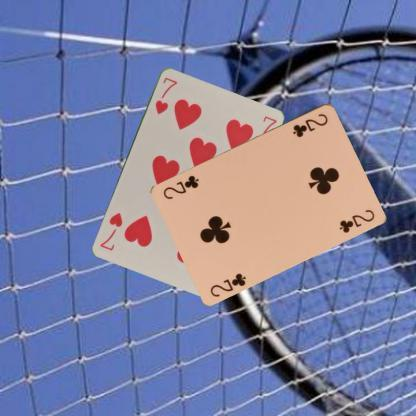2c: (289, 110, 330, 139), (208, 270, 248, 298)
7h: (152, 74, 178, 116)
